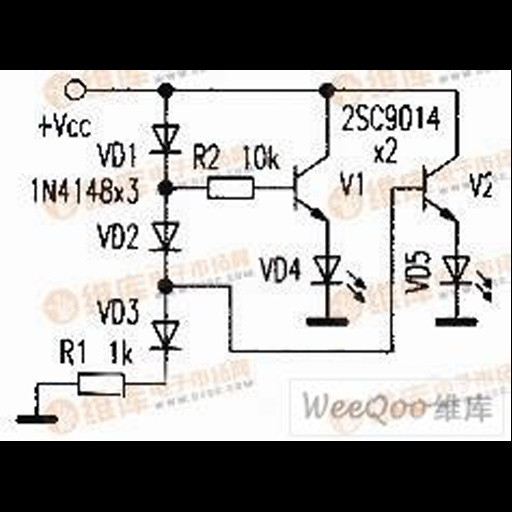firstresistance: (68, 368, 135, 404), (201, 174, 262, 201)
npn: (412, 152, 466, 230), (286, 153, 337, 226)
seconddiode: (149, 216, 187, 256), (147, 319, 187, 355), (150, 120, 184, 159)
secondled: (309, 251, 375, 305), (439, 249, 498, 304)
